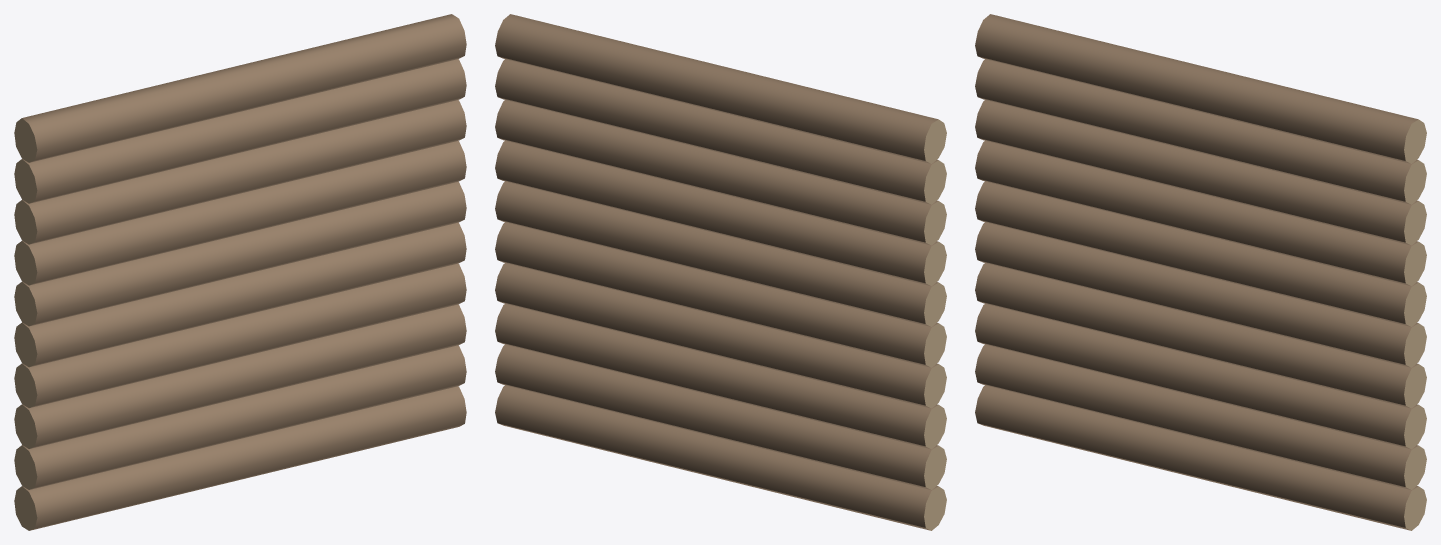
File: log_wall.glb
3 views of the same model, side by side, from view 1: azimuth 30°, elevation 25°; view 2: azimuth 150°, elevation 25°; view 3: azimuth 330°, elevation 25° (orthographic).
Visible parts, largest first — view 1: Wall; view 2: Wall; view 3: Wall.
Boxes of the visible parts, x1=… form: Wall: x1=14, y1=14, x2=466, y2=530; Wall: x1=495, y1=14, x2=946, y2=530; Wall: x1=975, y1=14, x2=1426, y2=530.
Bounding box in the file's own units: 3.3 × 3 × 0.3129.
